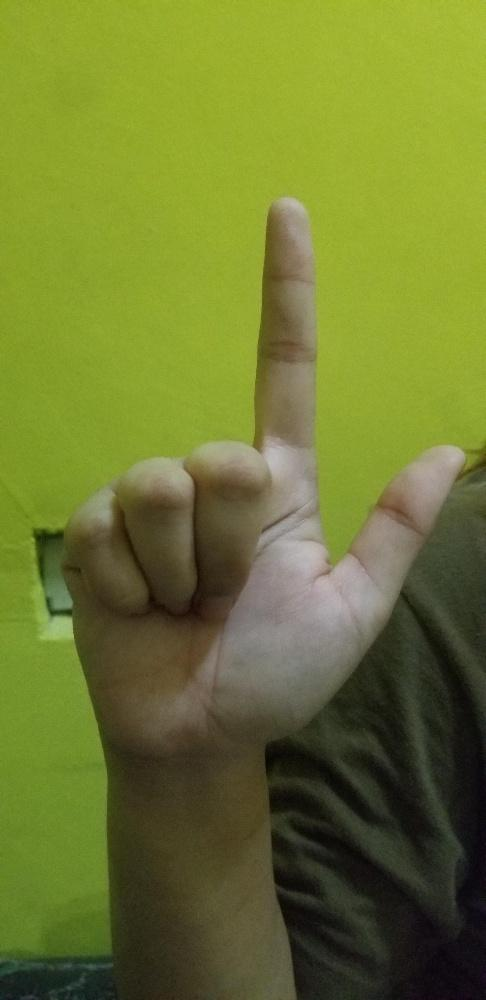l: (60, 194, 460, 748)
